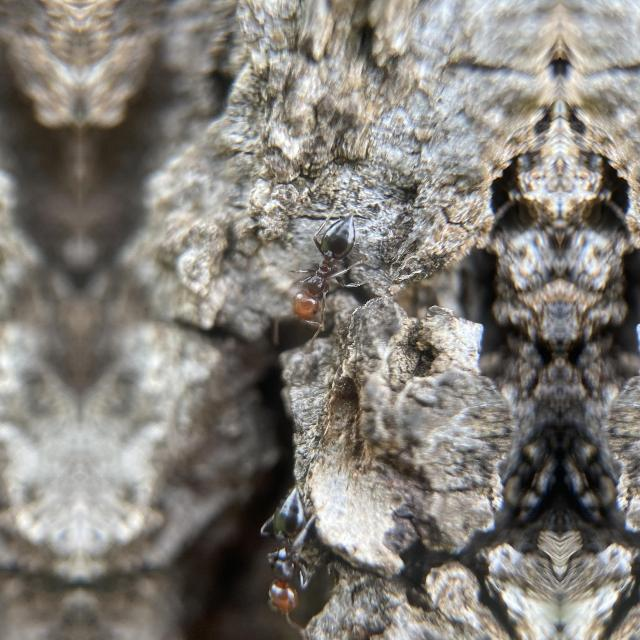Crematogaster: (283, 215, 362, 323)
